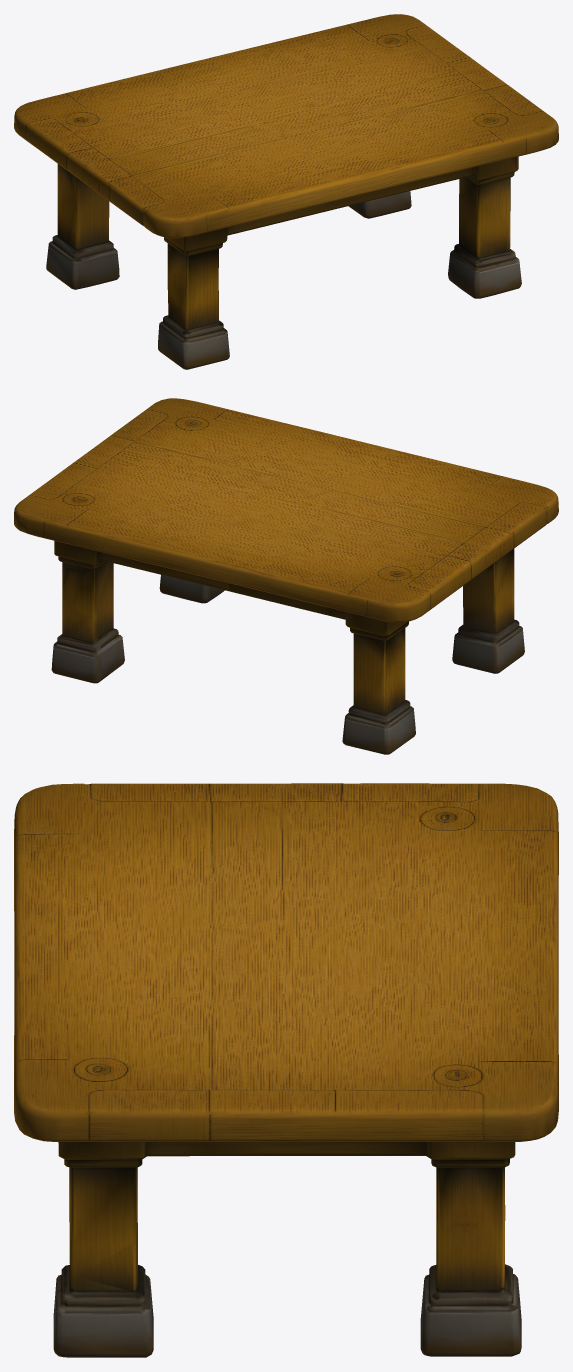
The model's file is table_dining.glb.
3 renders of one model, top to bottom at view 1: azimuth 30°, elevation 25°; view 2: azimuth 150°, elevation 25°; view 3: azimuth 270°, elevation 25°, orthographic. The views are drawn at different scales.
Parts seen in each view (by area): view 1: table_dining; view 2: table_dining; view 3: table_dining.
Part boxes in pixels (x1,y1,x2,y2): table_dining: (14, 14, 558, 369); table_dining: (14, 398, 558, 754); table_dining: (14, 783, 558, 1357).
Bounding box in the file's own units: 1.8 × 0.6978 × 1.25.
1 material, 1 textured.
